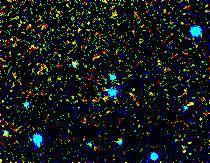star: (137, 75, 167, 105)
